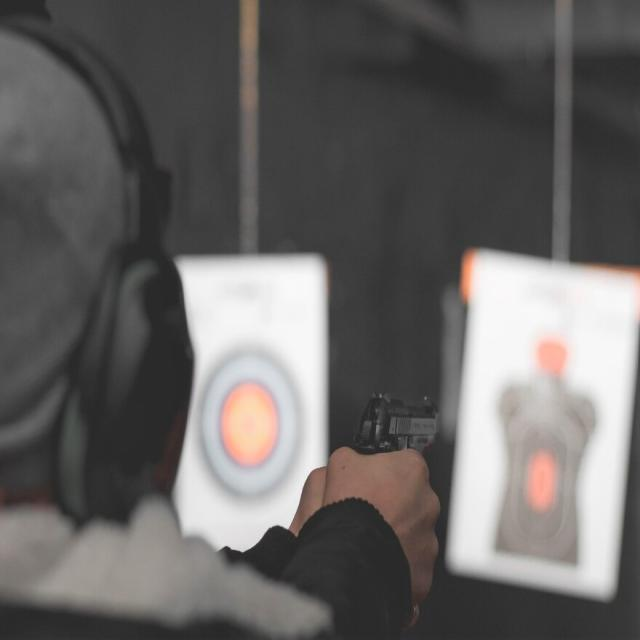HandGun: (353, 393, 439, 457)
